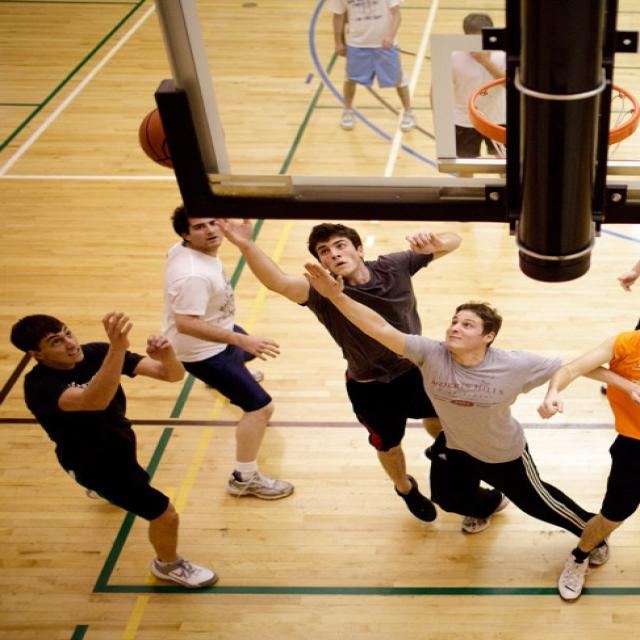body: (298, 252, 639, 574), (208, 216, 467, 527), (5, 306, 229, 596), (154, 194, 302, 506), (537, 323, 640, 602), (327, 0, 417, 133), (448, 11, 507, 180)
